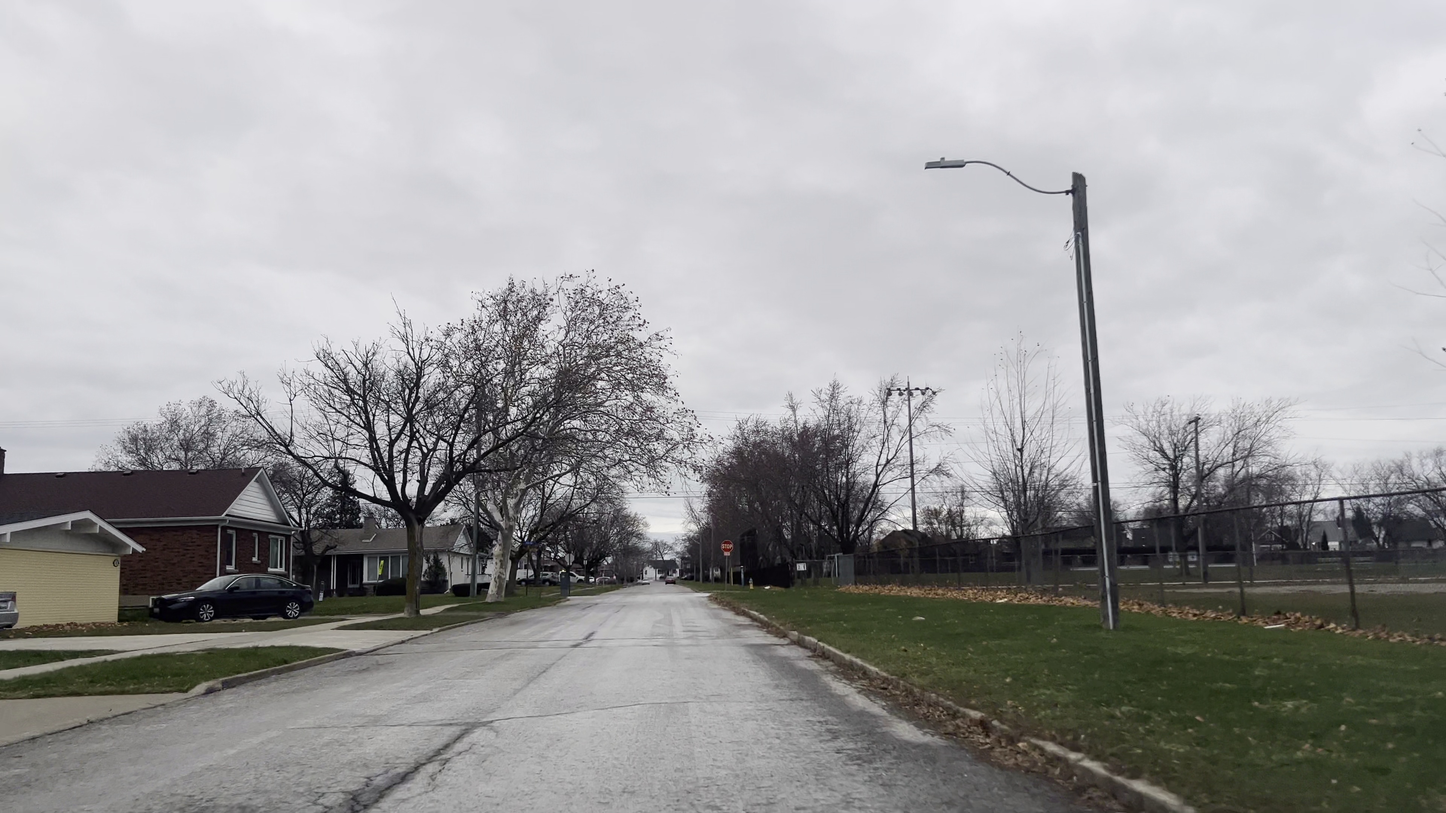cracks: (806, 708, 949, 787), (329, 758, 438, 813)
